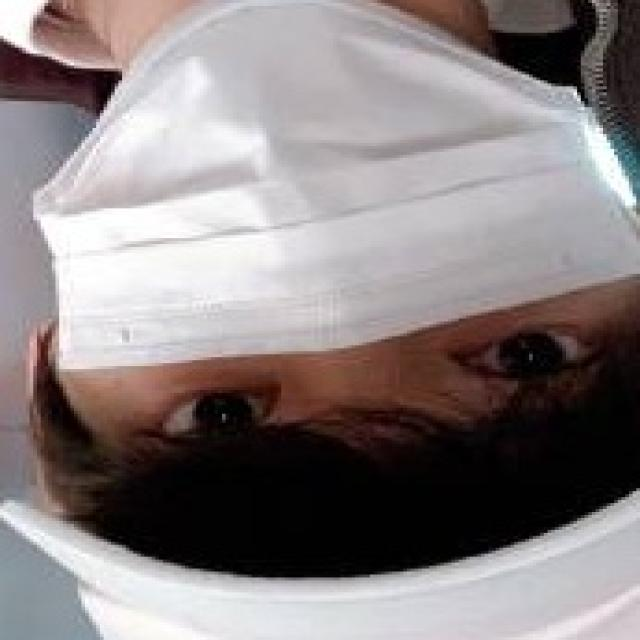Mask: (27, 20, 617, 406)
